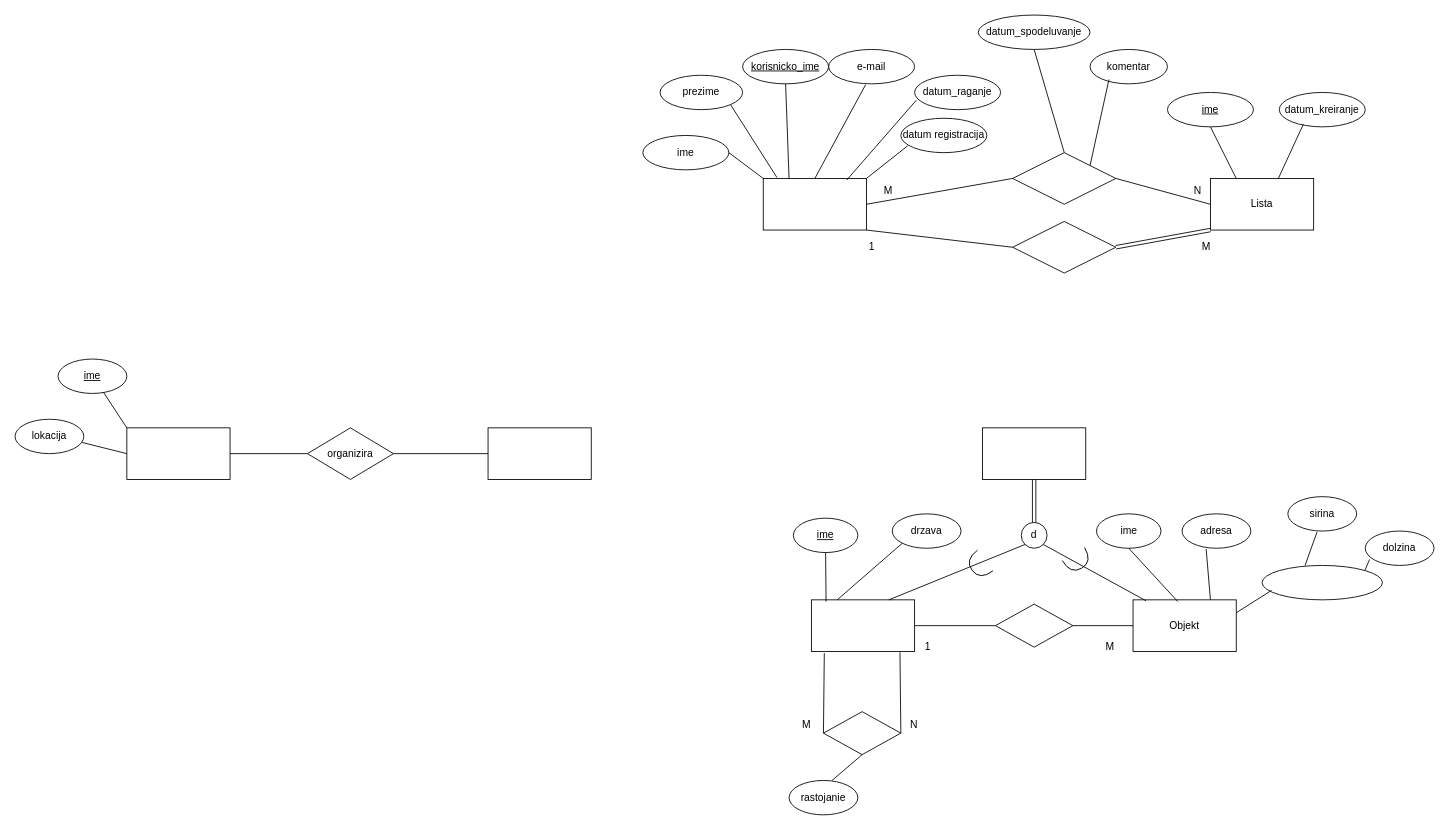
The diagram is 1449 pixels wide and 830 high, and some of its shapes have lost their labels. Each missing label, with the box of its shape:
geografska_lokacija: (1261, 565, 1382, 600)
Grad: (811, 599, 915, 651)
ima: (995, 603, 1073, 647)
Korisnik: (762, 178, 866, 230)
kreira: (1012, 221, 1116, 273)
Patuvanje: (487, 427, 591, 479)
sosedni: (823, 711, 901, 755)
spodeluva: (1012, 152, 1116, 204)
Turisticka_Agencija: (126, 427, 230, 479)
Turisticko_Mesto: (982, 427, 1086, 479)
